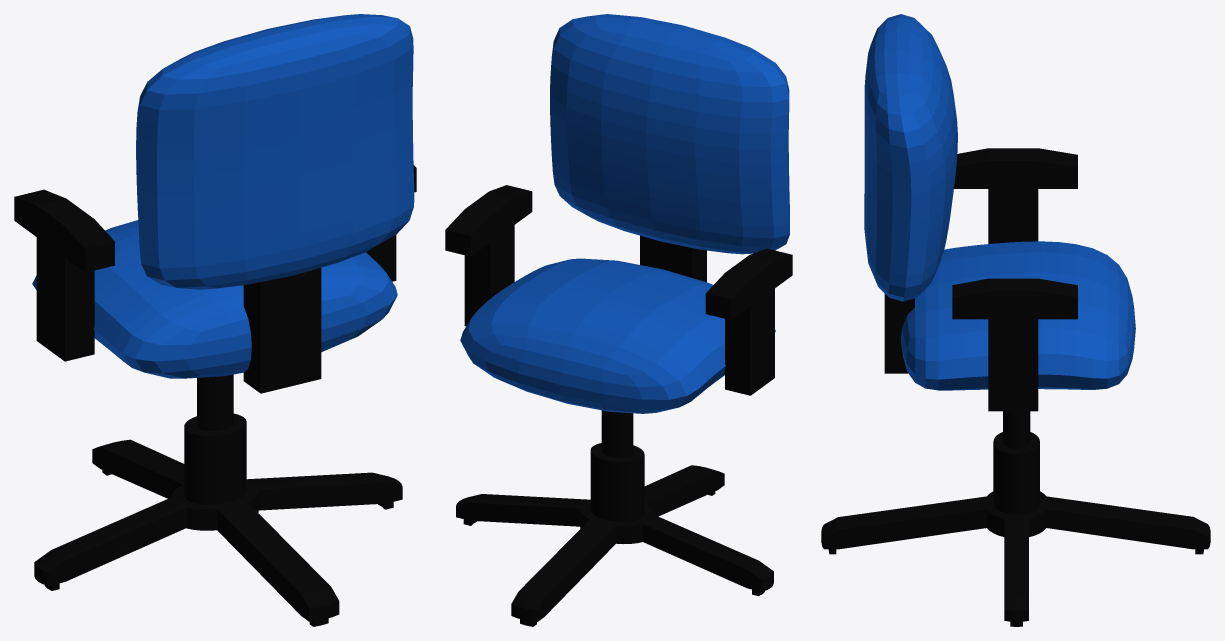
Rendered from Silla_prefab.fbx.
The picture shows the model from 3 angles, left to right: view 1: azimuth 30°, elevation 25°; view 2: azimuth 150°, elevation 25°; view 3: azimuth 270°, elevation 25°; orthographic projection. The views are drawn at different scales.
Parts seen in each view (by area): view 1: Cube, Cylinder, Cube.006, Cube.003, Cube.005, Cube.002; view 2: Cube, Cube.006, Cylinder, Cube.003, Cube.002, Cube.005; view 3: Cube.006, Cube, Cylinder, Cube.002, Cube.003, Cube.005.
Boxes of the visible parts, bbox=[...] form: Cube: bbox=[136, 14, 414, 289]; Cylinder: bbox=[34, 374, 402, 626]; Cube.006: bbox=[32, 220, 397, 378]; Cube.003: bbox=[14, 189, 114, 361]; Cube.005: bbox=[243, 268, 321, 393]; Cube.002: bbox=[366, 165, 416, 281]; Cube: bbox=[550, 14, 789, 254]; Cube.006: bbox=[460, 258, 775, 413]; Cylinder: bbox=[456, 410, 773, 626]; Cube.003: bbox=[705, 248, 792, 395]; Cube.002: bbox=[445, 185, 532, 326]; Cube.005: bbox=[640, 235, 706, 282]; Cube.006: bbox=[900, 241, 1135, 390]; Cube: bbox=[864, 14, 957, 301]; Cylinder: bbox=[821, 411, 1210, 626]; Cube.002: bbox=[952, 278, 1077, 411]; Cube.003: bbox=[954, 148, 1077, 243]; Cube.005: bbox=[884, 294, 914, 373].
Bounding box in the file's own units: 169 × 253 × 178.
Materials: 6 (6 with a texture image).
